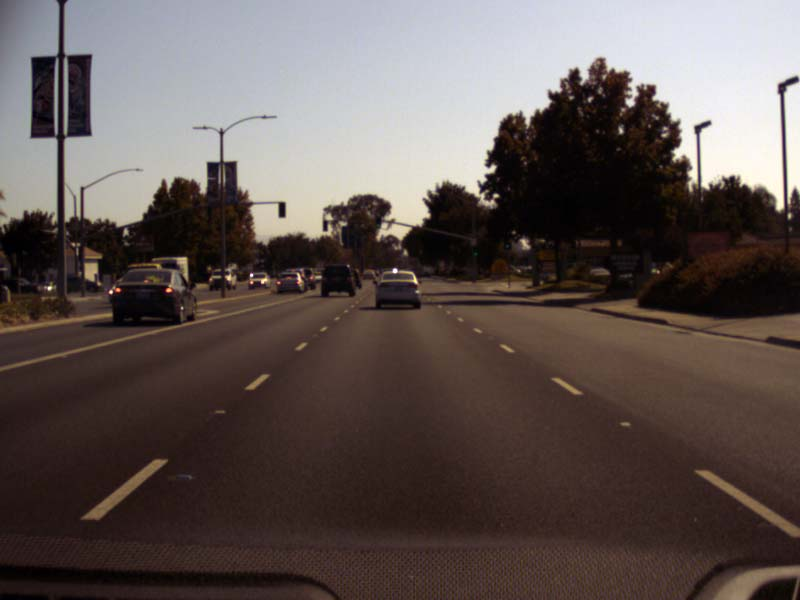Green: (472, 245, 478, 257), (503, 242, 511, 249), (376, 215, 380, 226)
